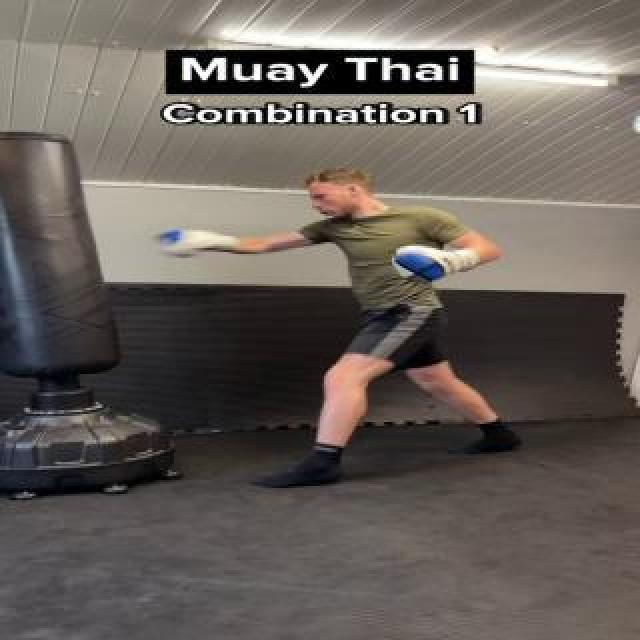fight: (169, 130, 535, 486)
